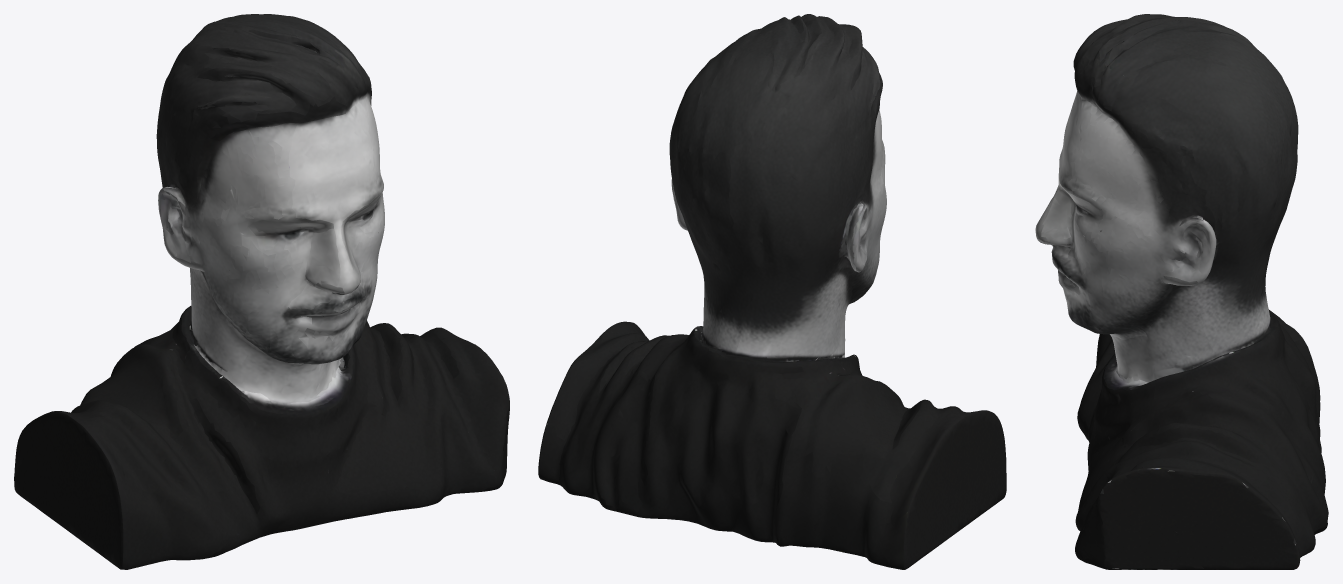
The picture shows the model from 3 angles, left to right: view 1: azimuth 30°, elevation 25°; view 2: azimuth 150°, elevation 25°; view 3: azimuth 270°, elevation 25°; orthographic projection. The views are drawn at different scales.
Visible parts, largest first — view 1: world; view 2: world; view 3: world.
Part boxes in pixels (<box>): world: <box>14,14,509,569</box>; world: <box>538,14,1006,569</box>; world: <box>1035,14,1328,569</box>.
Bounding box in the file's own units: 1.72 × 2 × 1.18.
Materials: 1 (1 with a texture image).
